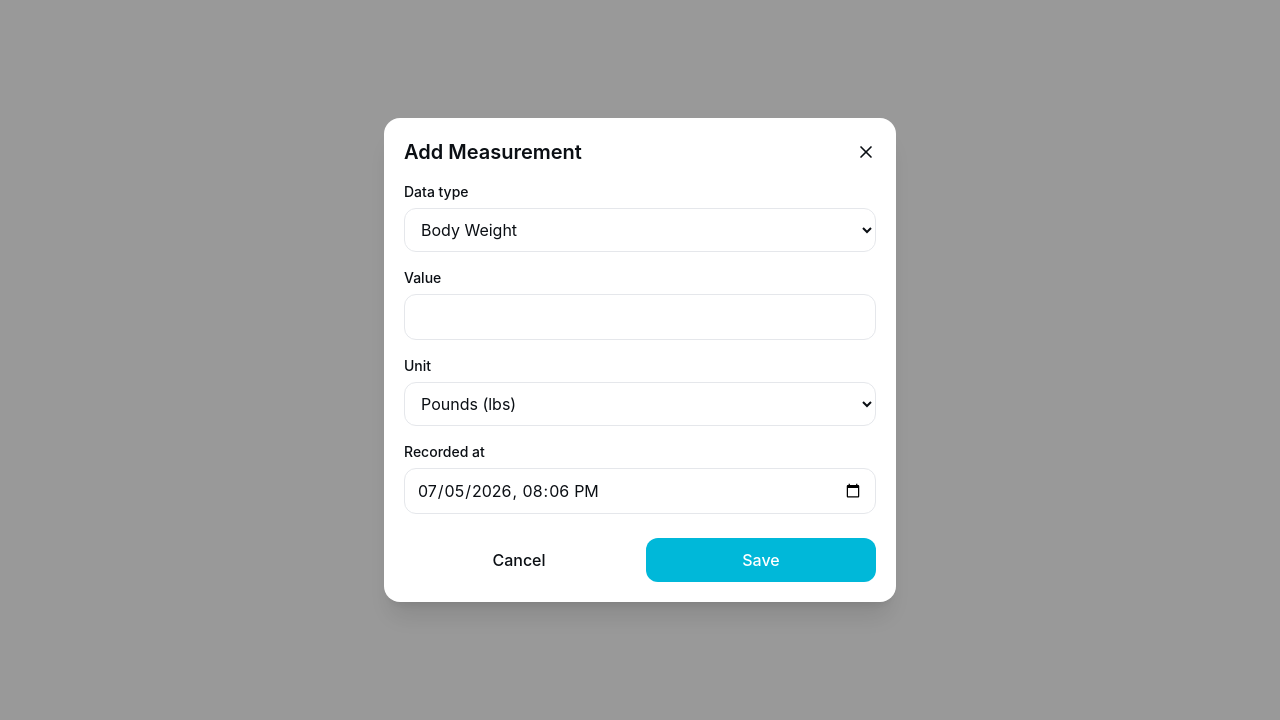
AddMeasurementModal › validates numeric value must be greater than zero
The image size is (1280, 720).
Type "0" into the number field labelled "Value" at (640, 317), box [404,294,876,340]
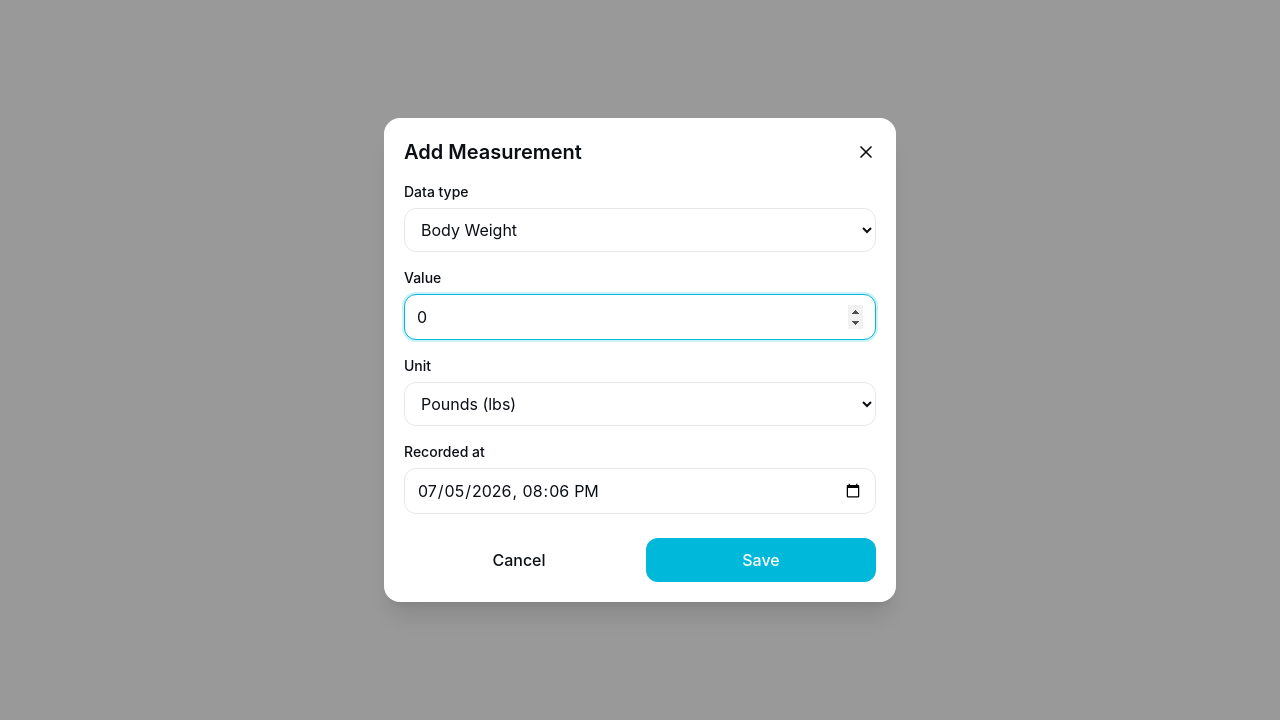
Click the button "Save" at (761, 560), box [646,538,876,582]
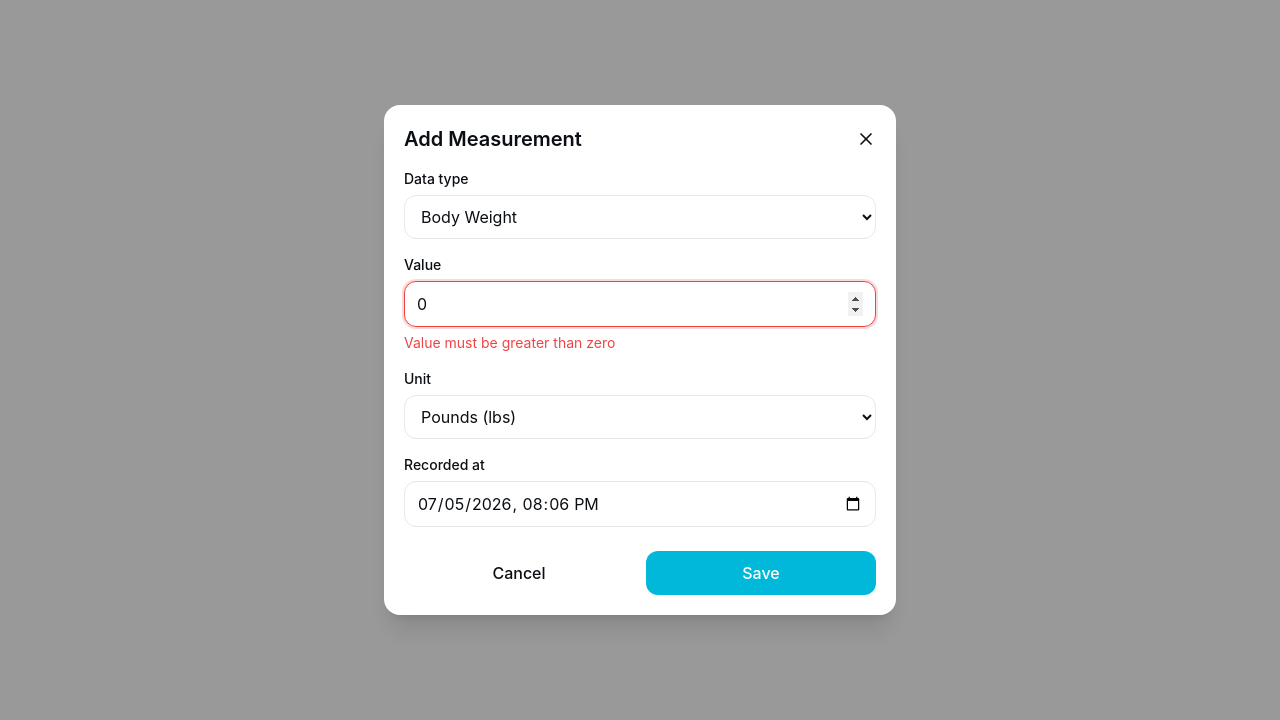
Expected: the text "Value must be greater than zero" is shown, [404,334,615,351]
